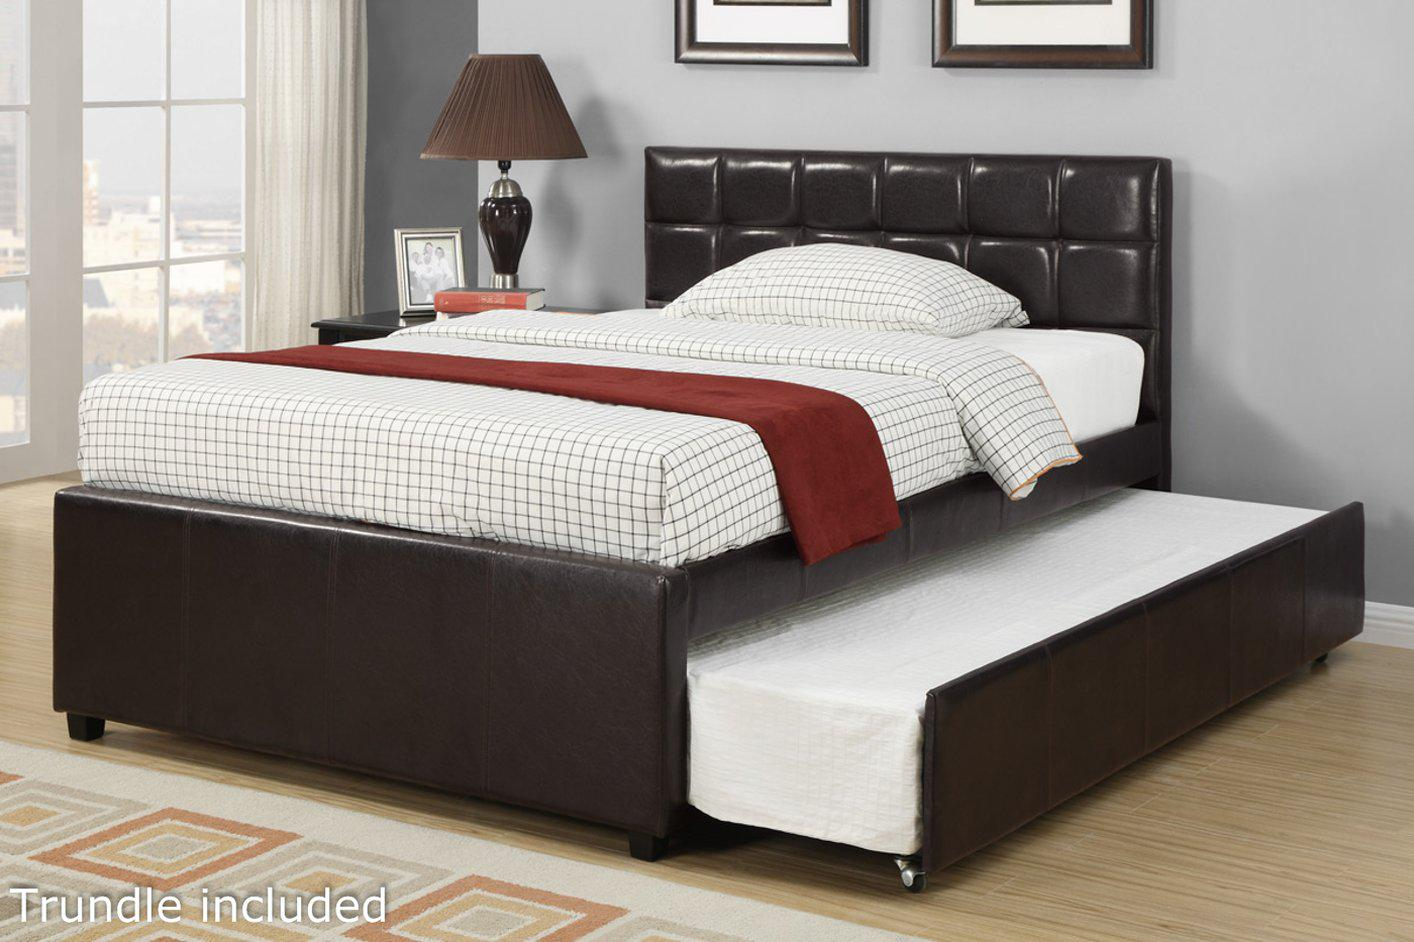bed: (57, 120, 1376, 888)
